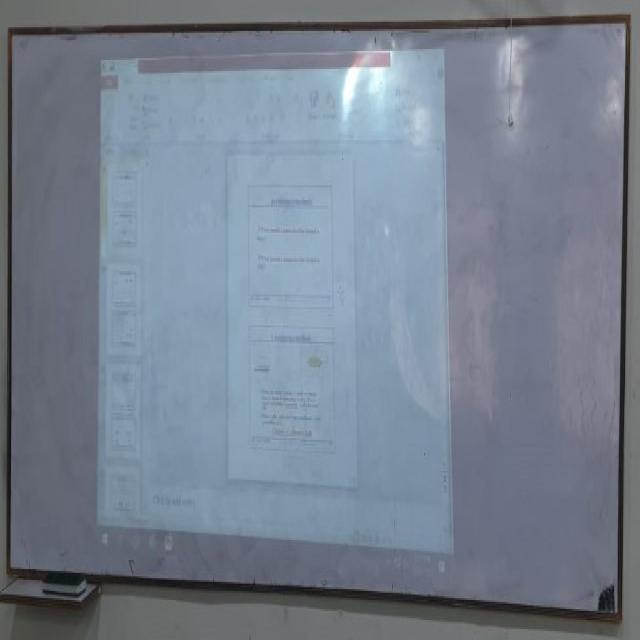Slide: (98, 48, 454, 579)
White-board: (7, 23, 630, 619)
